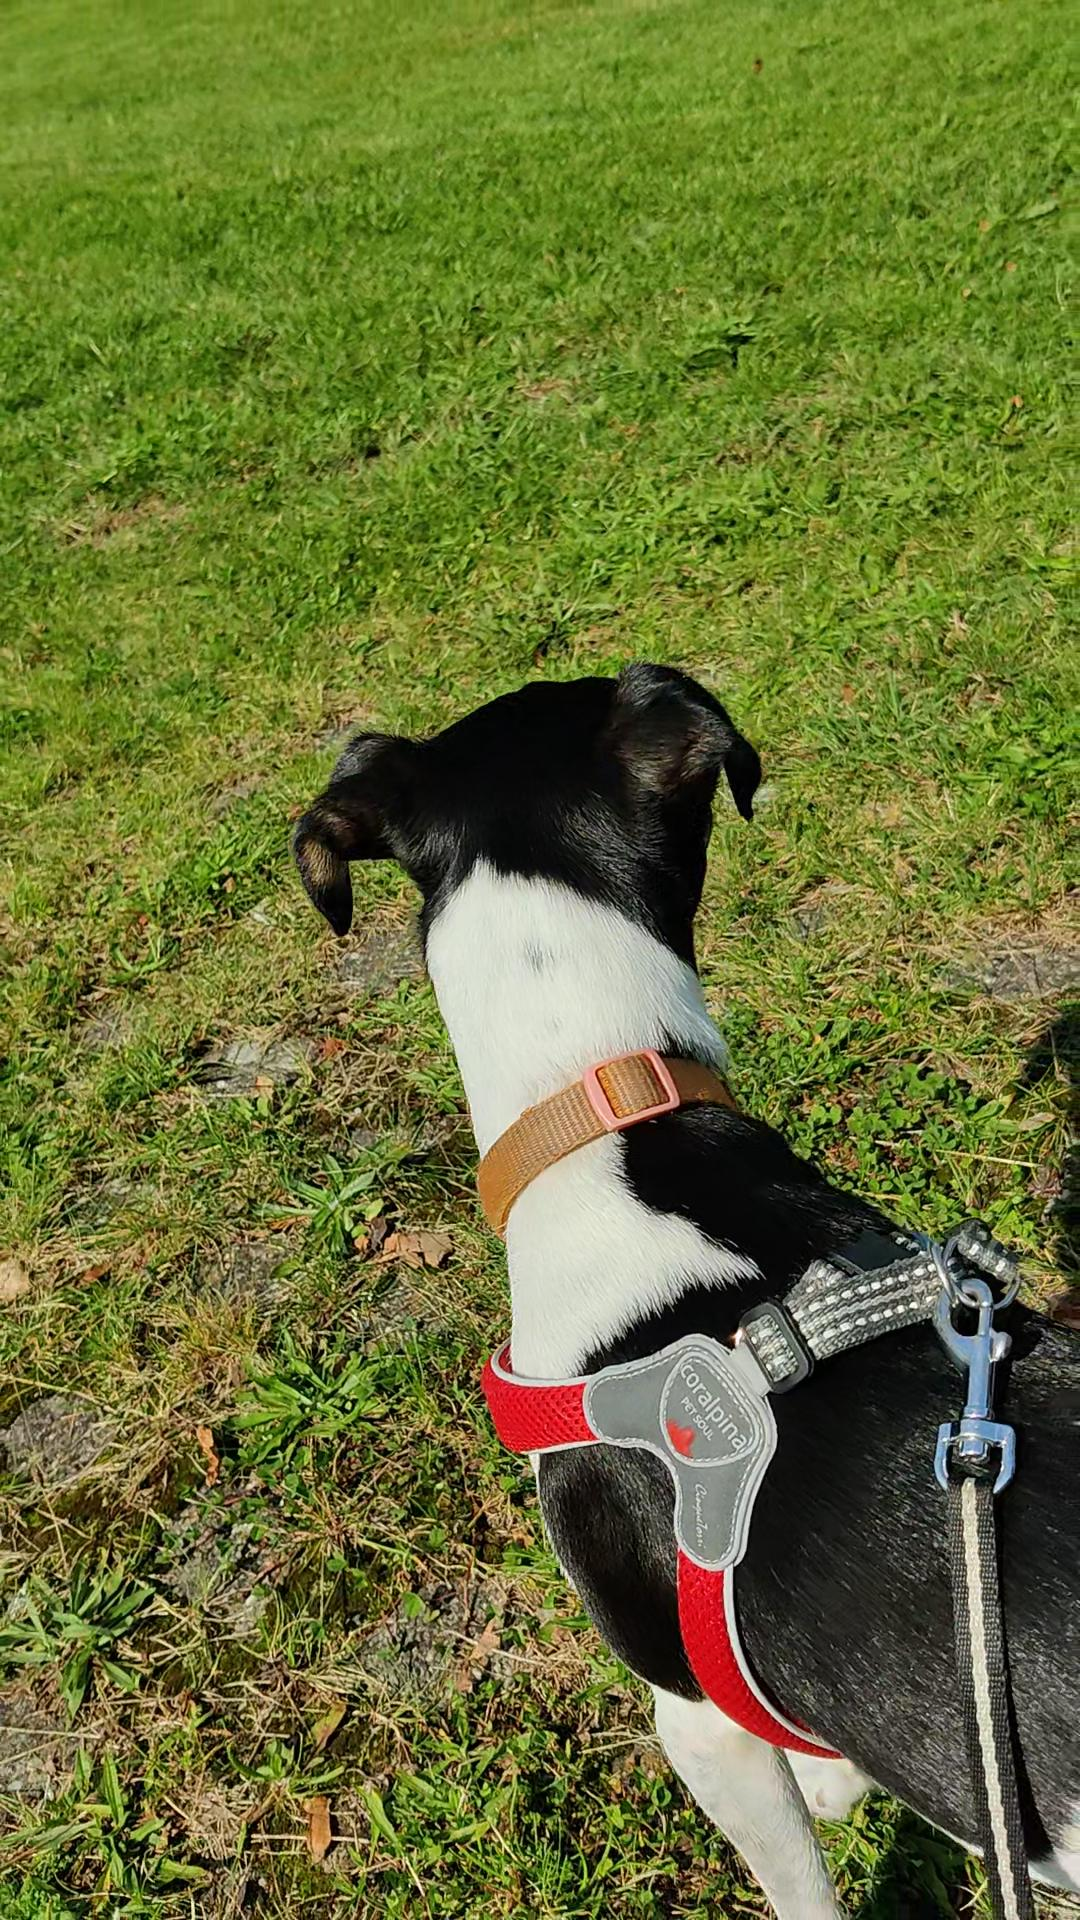Dog: (260, 641, 1079, 1919)
